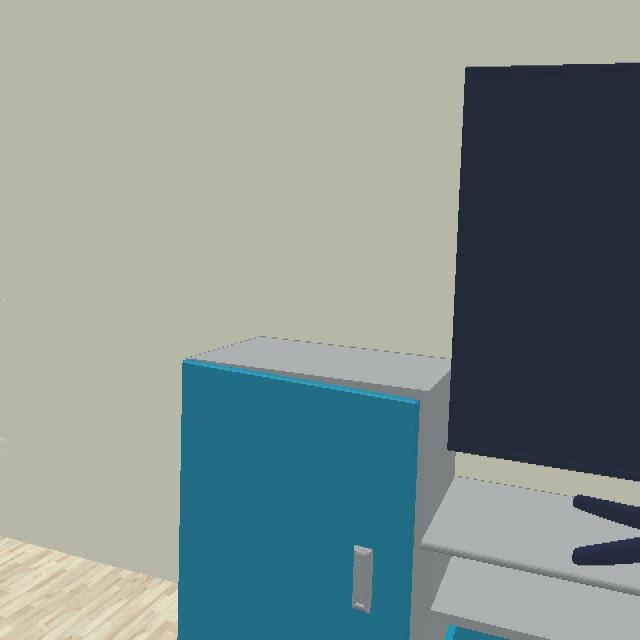cabinet: (177, 337, 629, 640)
monitor: (449, 63, 640, 484), (573, 495, 640, 531), (572, 537, 640, 567)
